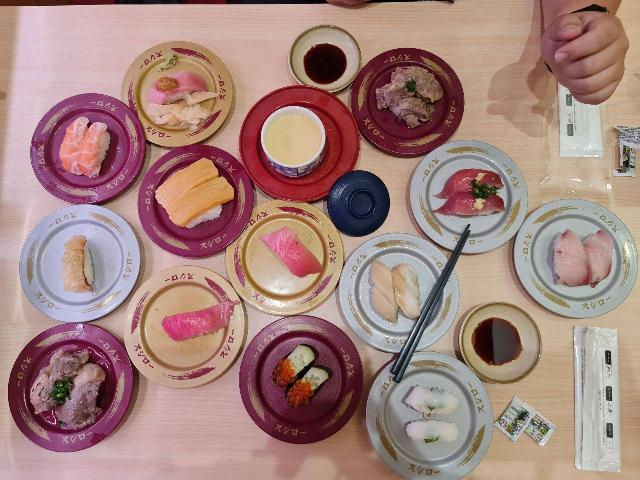jangold: (110, 45, 232, 146), (121, 281, 244, 376), (223, 201, 327, 308)
janred: (225, 326, 366, 427), (239, 86, 350, 191), (346, 62, 455, 161), (29, 325, 127, 433), (147, 157, 257, 250), (34, 102, 137, 196)
janwhite: (351, 359, 495, 474), (508, 205, 633, 316), (339, 240, 463, 349), (19, 214, 138, 316), (416, 151, 527, 238)
